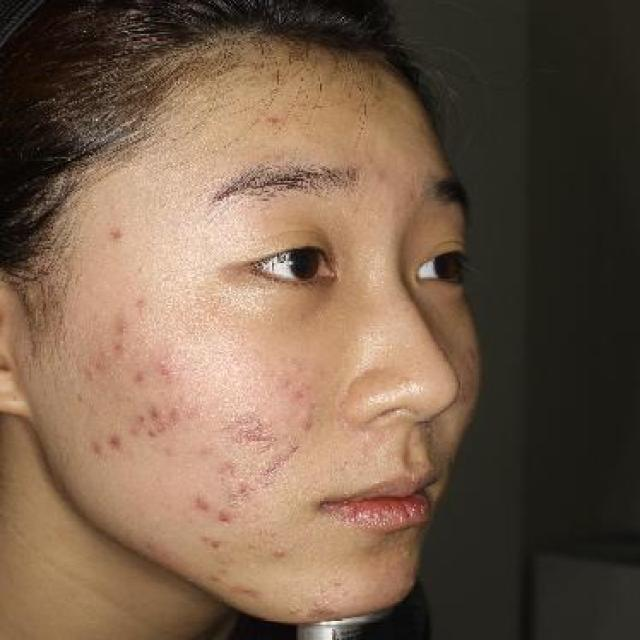dark spot: (218, 404, 290, 450), (152, 354, 185, 392), (102, 425, 132, 457), (224, 475, 258, 503), (190, 485, 214, 523), (208, 506, 240, 528), (87, 432, 106, 465), (103, 225, 135, 243)
